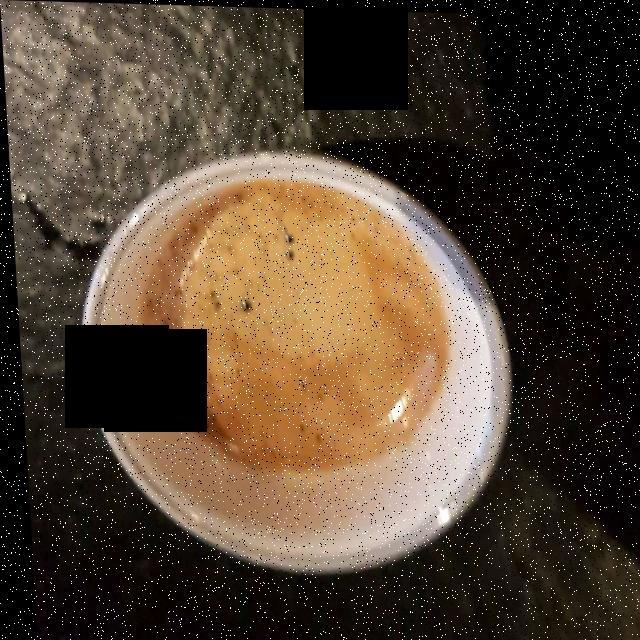coffee: (138, 185, 444, 472)
